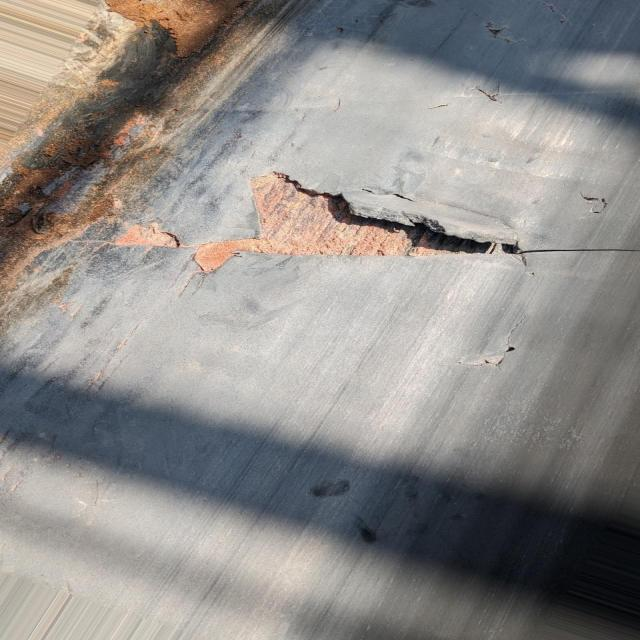Tear: (81, 164, 640, 296), (457, 312, 532, 370), (485, 18, 522, 46), (458, 81, 505, 103), (578, 188, 613, 217)
